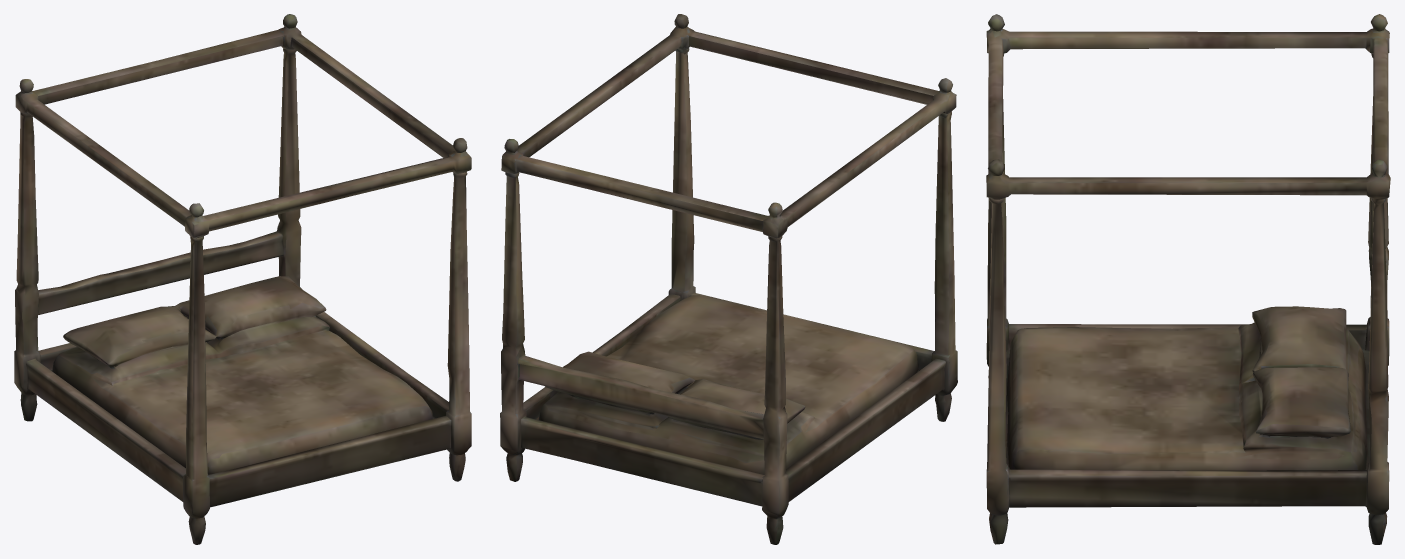
The model's file is weathered-wood-four-poster-bed-v001.glb.
The picture shows the model from 3 angles, left to right: view 1: azimuth 30°, elevation 25°; view 2: azimuth 150°, elevation 25°; view 3: azimuth 270°, elevation 25°; orthographic projection. The views are drawn at different scales.
Visible parts, largest first — view 1: weathered-wood-four-poster-bed; view 2: weathered-wood-four-poster-bed; view 3: weathered-wood-four-poster-bed.
Boxes of the visible parts, x1,y1,x2,y2 form: weathered-wood-four-poster-bed: (14, 14, 471, 544); weathered-wood-four-poster-bed: (500, 14, 957, 544); weathered-wood-four-poster-bed: (986, 14, 1390, 544).
Bounding box in the file's own units: 1.96 × 2.29 × 2.17.
Materials: 1 (1 with a texture image).
